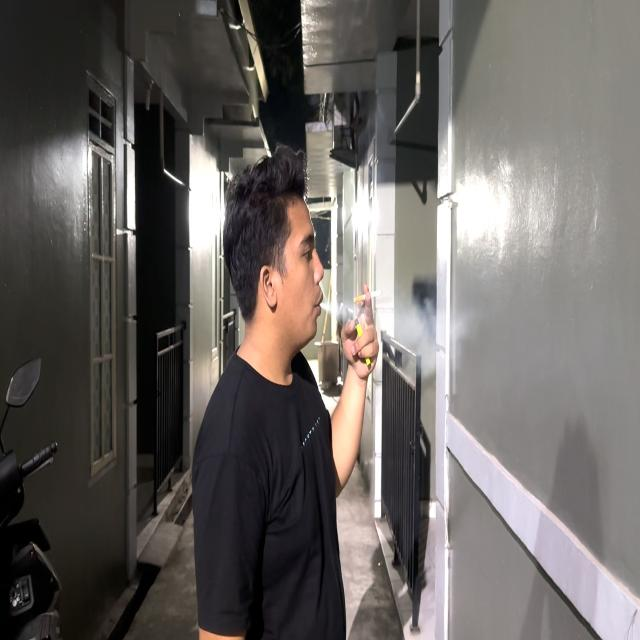cigarette: (353, 289, 383, 304)
smoking: (219, 136, 384, 499)
